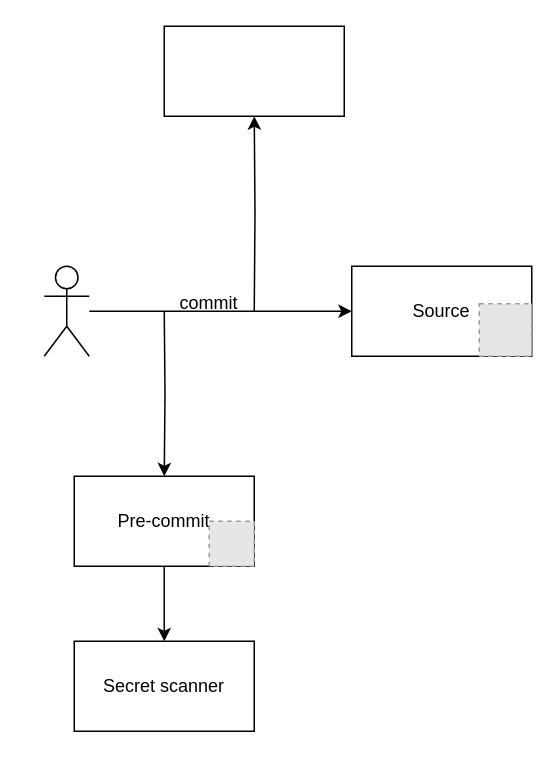
This 558x758 diagram has some shape labels left out. Grey dashed boxes stand in for pictures. Here are the shapes that lost their labels. From the top down, the centre of each, then its label:
the point at 253,70: Branch protection
the point at 66,310: Developer
